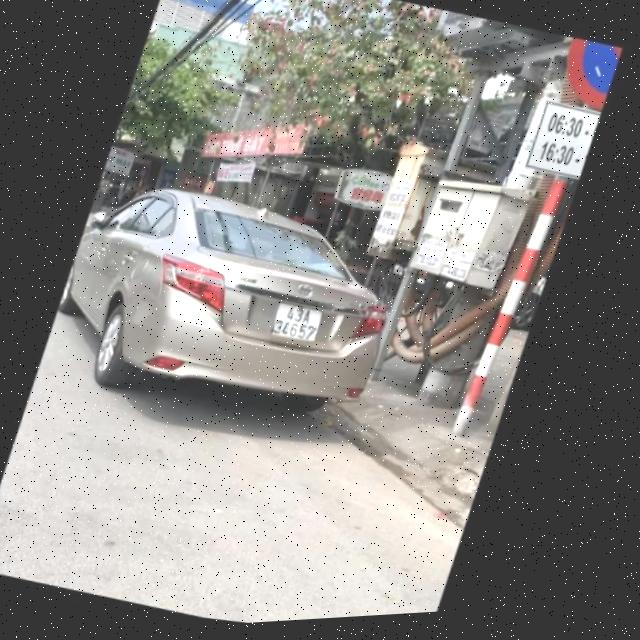car: (37, 159, 422, 452)
plate: (262, 291, 330, 351)
